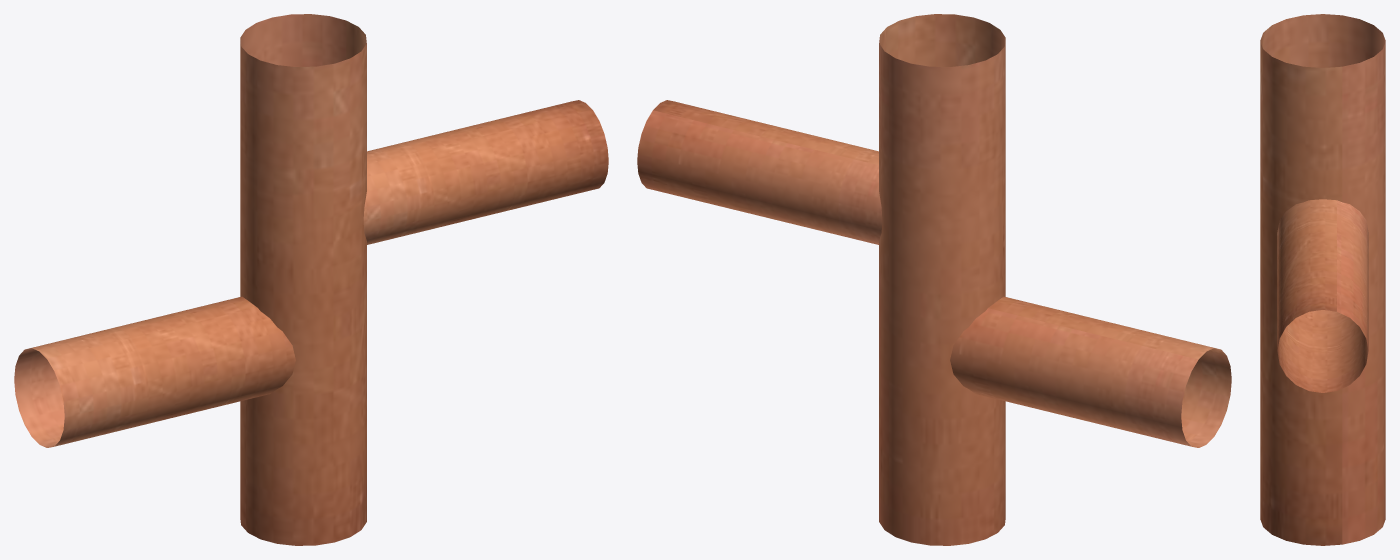
The model's file is LVL_Pipe.fbx.
3 renders of one model, left to right at view 1: azimuth 30°, elevation 25°; view 2: azimuth 150°, elevation 25°; view 3: azimuth 270°, elevation 25°, orthographic.
Visible parts, largest first — view 1: polySurface5; view 2: polySurface5; view 3: polySurface5.
Part boxes in pixels (x1,y1,x2,y2): polySurface5: (14,14,608,545); polySurface5: (637,14,1231,545); polySurface5: (1260,14,1385,545).
Size of the model in its own units: 9.04 by 7.57 by 1.8.
1 material, 1 textured.
